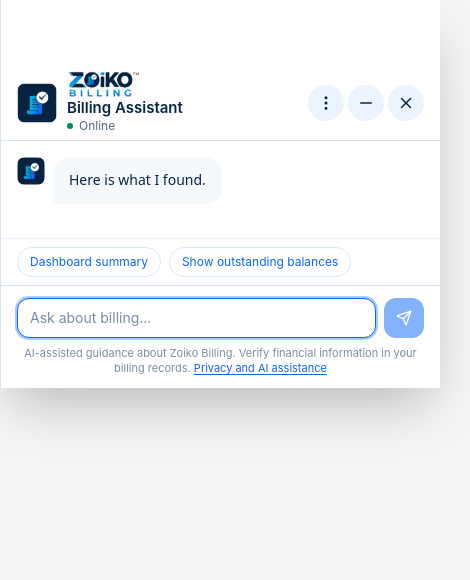
Normal manual input still works › typing + Send button submits exactly once
Expected: the text "Here is what I found." is shown, [69,169,206,192]
Type "revenue this month" into the text box named "type your billing question".
click(196, 318); type("revenue this month")  # box [17,298,376,338]
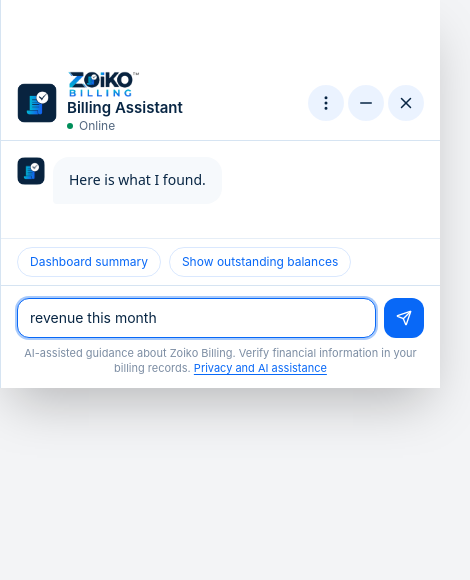
Click the button named "Send message".
click(404, 318)  # box [384,298,424,338]
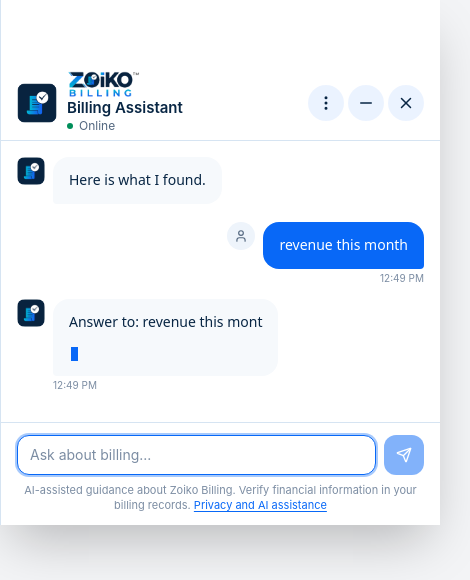
Expected: the text "revenue this month" is shown, [279,234,408,257]
